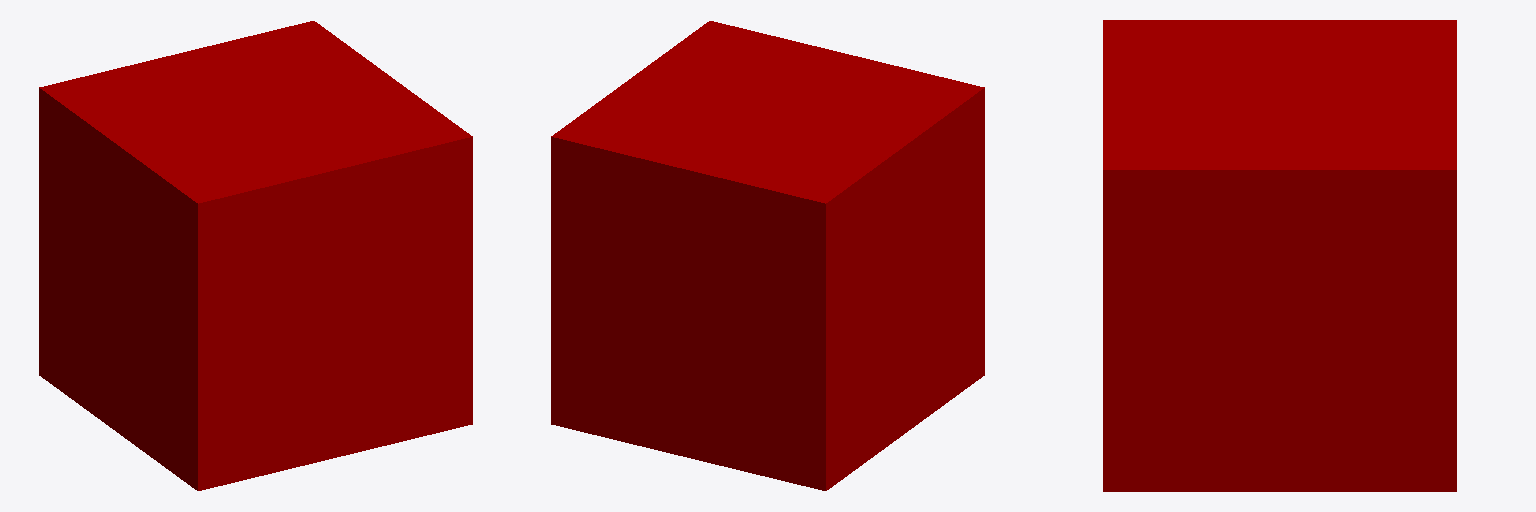
robot.urdf — cube:
<?xml version="1.0" ?>
<robot name="cube">
  <link name="cube-base">
    <visual>
      <origin rpy="0 0 0" xyz="0 0 0"/>
      <geometry>
        <box size="0.075 0.075 0.075"/>
      </geometry>
      <material name="test">
        <color rgba="0.7 0.0 0.0 1.0"/>
      </material>
    </visual>
    <collision>
      <origin rpy="0 0 0" xyz="0 0 0"/>
      <geometry>
        <box size="0.075 0.075 0.075"/>
      </geometry>
    </collision>
<!--     <inertial>
      <origin rpy="0 0 0" xyz="0.000000 0.000000 0.000000"/>
      <mass value="0.0"/>
      <inertia ixx="1.0" ixy="0.01" ixz="0.01" iyy="1.0" iyz="0.01" izz="1.0"/>
    </inertial> -->
  </link>
</robot>

--- Facts derived from the render (not from the file) ---
3 views of the same robot in one strip: view 1: azimuth 30°, elevation 25°; view 2: azimuth 150°, elevation 25°; view 3: azimuth 270°, elevation 25° (orthographic).
Robot: cube — 1 links, 0 joints (none); root link cube-base; default pose: every joint at zero.
Visible links, largest first — view 1: cube-base; view 2: cube-base; view 3: cube-base.
Boxes of the visible links, x1=… form: cube-base: x1=39, y1=21, x2=472, y2=490; cube-base: x1=551, y1=21, x2=984, y2=490; cube-base: x1=1103, y1=20, x2=1456, y2=491.
Size in the robot's own frame: 0.075 by 0.075 by 0.075 metres.
Geometry: primitives only (box / cylinder / sphere), no mesh files.